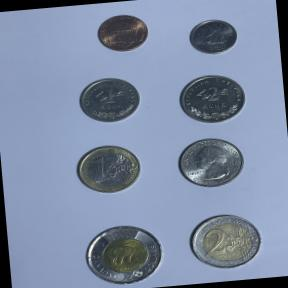1 Euro: (70, 139, 146, 199)
2 Euro: (184, 207, 270, 277)
Canda-10cent-: (186, 13, 243, 60)
Canda-2Dollar-: (76, 217, 170, 288)
Croatia-2Kune-: (173, 68, 252, 129)
US-1cent-: (92, 9, 153, 57)
US-25cent-: (170, 133, 251, 193)
